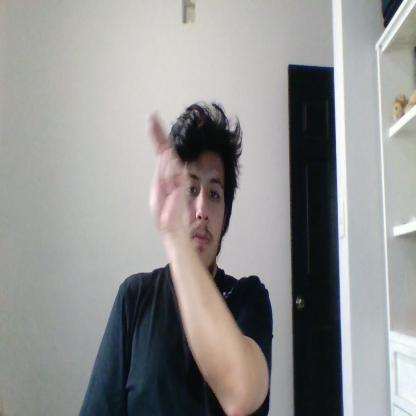R: (148, 112, 186, 234)
